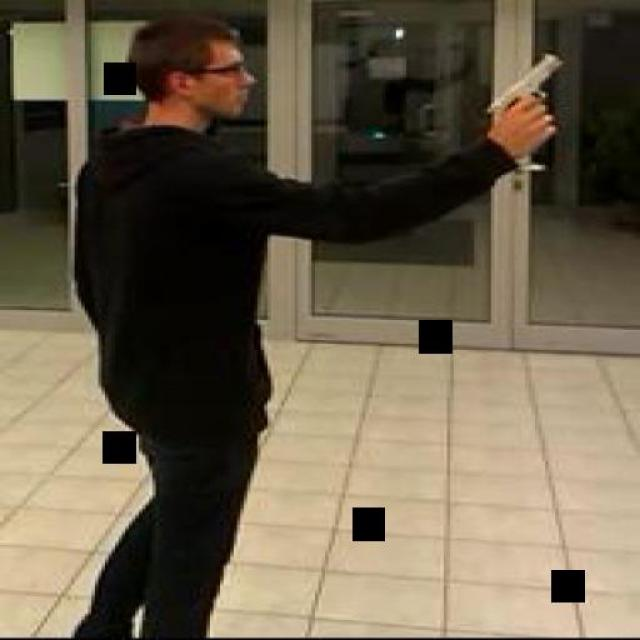gun: (478, 48, 558, 134)
